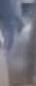cylinder: (1, 0, 36, 86)
